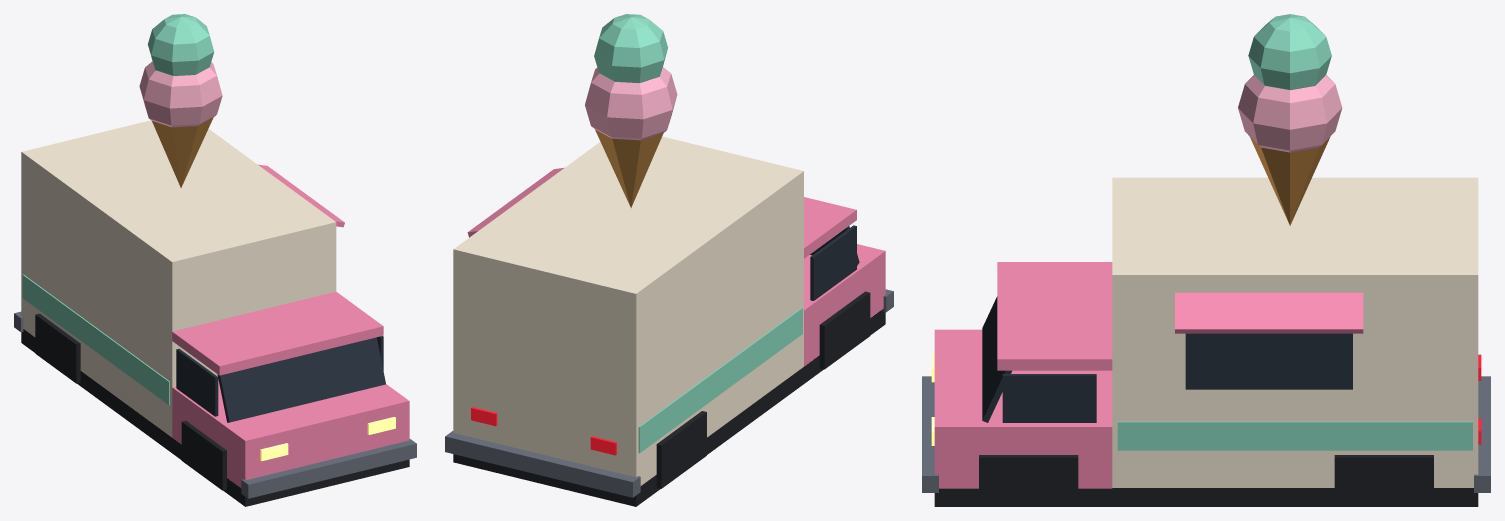
The model's file is ice_cream_truck.glb.
3 renders of one model, left to right at view 1: azimuth 30°, elevation 25°; view 2: azimuth 150°, elevation 25°; view 3: azimuth 270°, elevation 25°, orthographic. The views are drawn at different scales.
Parts seen in each view (by area): view 1: box_truck_cream, body_truck_pink, body_truck_glass, body_car_black, cone_scoop, box_truck_mint, body_car_grey, cone_truck_mint, cone_cone, lights_lamp, box_truck_pink; view 2: box_truck_cream, body_car_black, body_truck_pink, cone_scoop, box_truck_mint, box_car_grey, cone_truck_mint, body_truck_glass, cone_cone, lights_tail, box_truck_pink; view 3: box_truck_cream, body_truck_pink, body_car_black, box_truck_mint, box_truck_glass, box_truck_pink, body_truck_glass, cone_scoop, cone_truck_mint, cone_cone, box_car_grey, body_car_grey.
Boxes of the visible parts, x1,y1,x2,y2 form: box_truck_cream: (21, 120, 336, 437); body_truck_pink: (172, 291, 409, 487); body_truck_glass: (176, 336, 385, 422); body_car_black: (21, 313, 409, 506); cone_scoop: (139, 61, 222, 127); box_truck_mint: (22, 274, 169, 404); body_car_grey: (241, 439, 416, 498); cone_truck_mint: (147, 14, 214, 75); cone_cone: (152, 117, 213, 187); lights_lamp: (260, 417, 395, 461); box_truck_pink: (258, 164, 344, 227); box_truck_cream: (453, 136, 803, 485); body_car_black: (453, 291, 885, 506); body_truck_pink: (804, 197, 885, 366); cone_scoop: (585, 67, 677, 140); box_truck_mint: (638, 307, 802, 453); box_car_grey: (445, 431, 640, 497); cone_truck_mint: (594, 14, 667, 83); body_truck_glass: (810, 225, 859, 300); cone_cone: (595, 129, 663, 207); lights_tail: (471, 407, 616, 455); box_truck_pink: (467, 167, 564, 237); box_truck_cream: (1112, 177, 1478, 487); body_truck_pink: (934, 262, 1112, 488); body_car_black: (934, 455, 1478, 506); box_truck_mint: (1117, 421, 1472, 450); box_truck_glass: (1185, 333, 1352, 389); box_truck_pink: (1175, 292, 1363, 333); body_truck_glass: (982, 296, 1096, 422); cone_scoop: (1238, 75, 1342, 152); cone_truck_mint: (1248, 14, 1331, 90); cone_cone: (1250, 136, 1330, 225); box_car_grey: (1474, 376, 1490, 492); body_car_grey: (922, 376, 938, 492).
Bounding box in the file's own units: 2.73 × 4.65 × 5.44.
